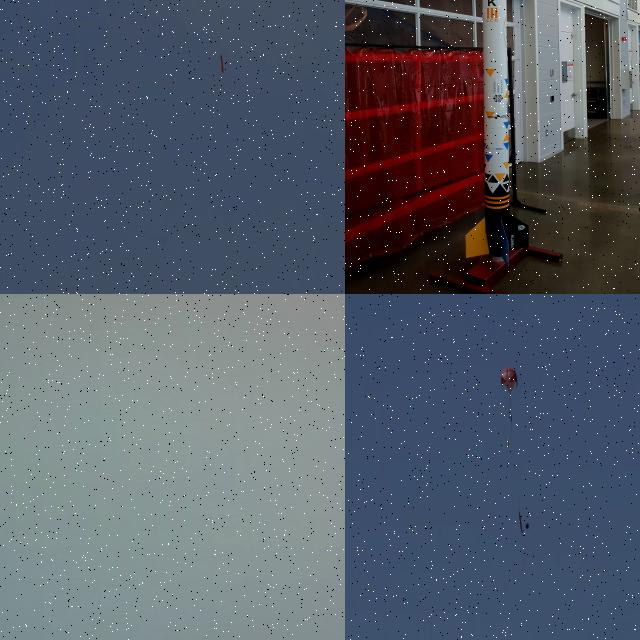Rocket: (465, 0, 529, 267), (220, 54, 224, 73)
